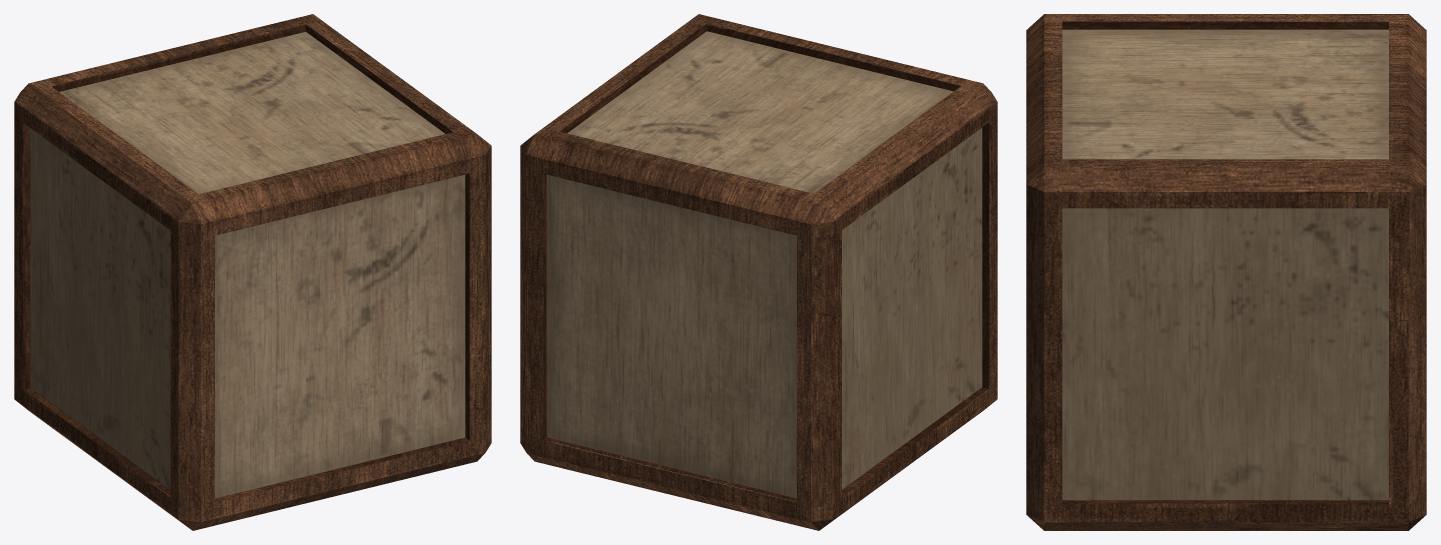
The picture shows the model from 3 angles, left to right: view 1: azimuth 30°, elevation 25°; view 2: azimuth 150°, elevation 25°; view 3: azimuth 270°, elevation 25°; orthographic projection. The views are drawn at different scales.
Parts seen in each view (by area): view 1: polySurface2; view 2: polySurface2; view 3: polySurface2.
Boxes of the visible parts, x1,y1,x2,y2 form: polySurface2: [14, 14, 491, 530]; polySurface2: [520, 14, 997, 530]; polySurface2: [1026, 14, 1426, 530].
Size of the model in its own units: 0.0277 by 0.0277 by 0.0277.
1 material, 1 textured.
